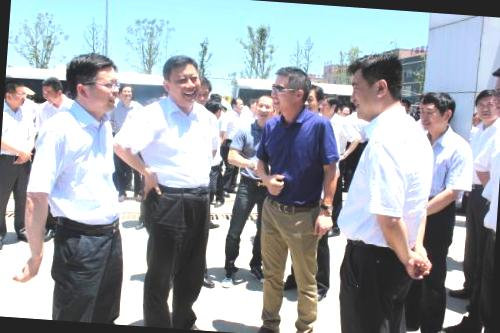no_helmet: (348, 49, 406, 122), (64, 52, 122, 113), (154, 50, 206, 106), (267, 62, 312, 120), (420, 89, 456, 136), (470, 82, 500, 129), (4, 74, 32, 112), (40, 72, 67, 108), (304, 82, 327, 117), (488, 56, 500, 121), (252, 88, 274, 123), (318, 92, 342, 121), (202, 97, 225, 124), (194, 75, 213, 106), (119, 82, 136, 107), (230, 94, 247, 116)
